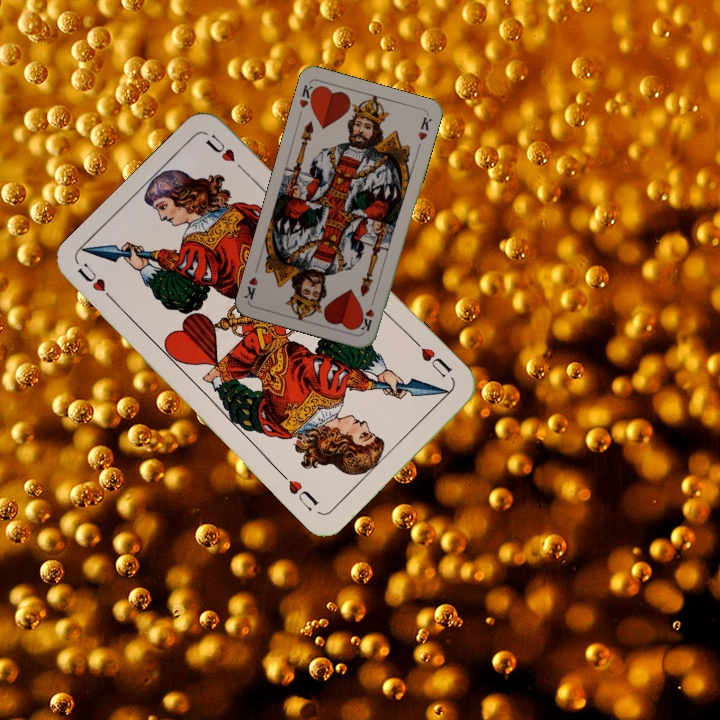HK: (357, 294, 378, 334), (295, 80, 320, 111)
HU: (73, 259, 120, 308), (410, 336, 455, 381)
